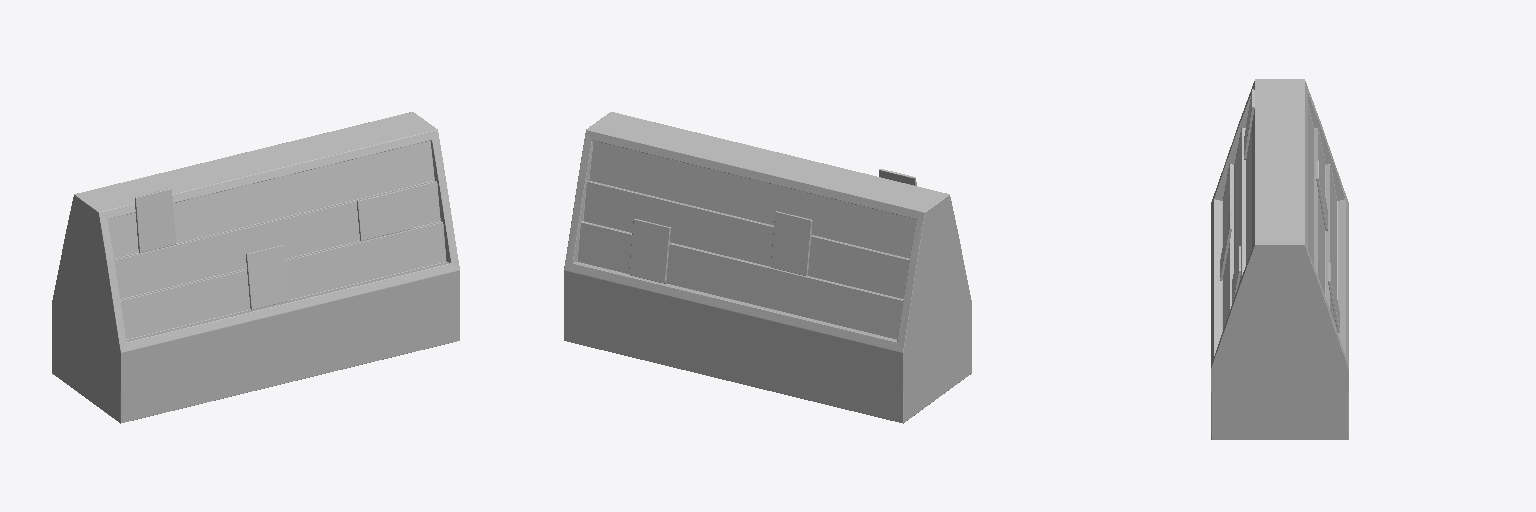
The model's file is hor2 konobi.obj.
3 renders of one model, left to right at view 1: azimuth 30°, elevation 25°; view 2: azimuth 150°, elevation 25°; view 3: azimuth 270°, elevation 25°, orthographic.
Parts seen in each view (by area): view 1: Plane.034_Plane.022; view 2: Plane.034_Plane.022; view 3: Plane.034_Plane.022.
Boxes of the visible parts, x1=… form: Plane.034_Plane.022: x1=52, y1=112, x2=459, y2=423; Plane.034_Plane.022: x1=564, y1=112, x2=971, y2=423; Plane.034_Plane.022: x1=1211, y1=79, x2=1348, y2=439.
Bounding box in the file's own units: 2 × 1.14 × 0.705.